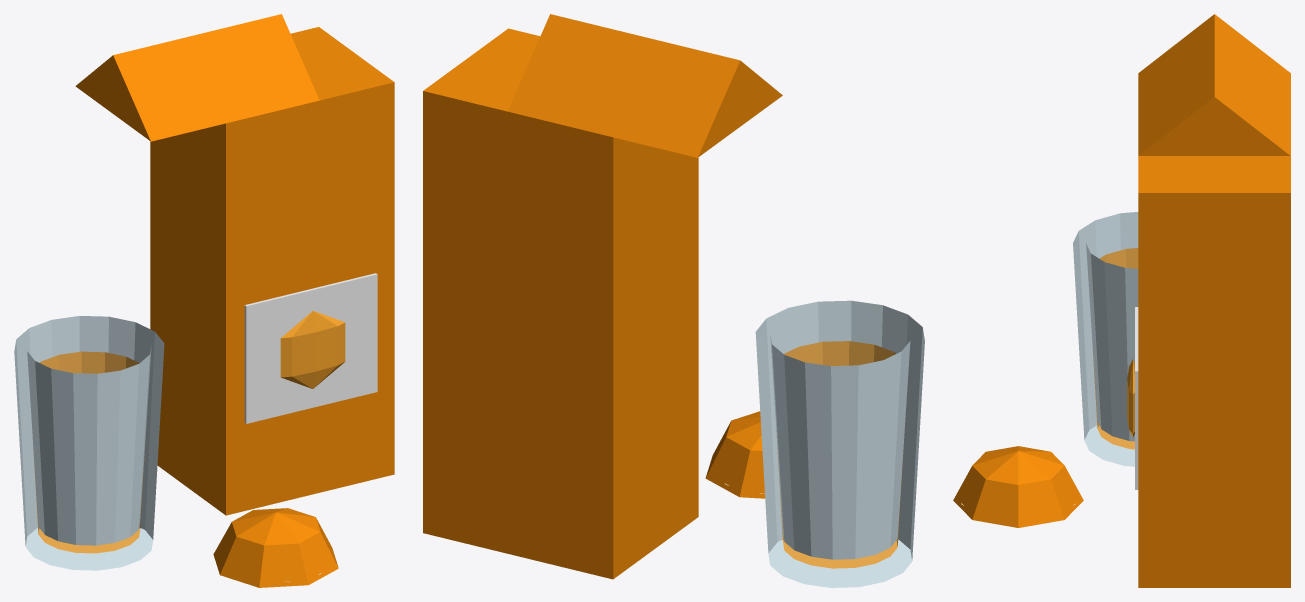
File: juice.glb
3 views of the same model, side by side, from view 1: azimuth 30°, elevation 25°; view 2: azimuth 150°, elevation 25°; view 3: azimuth 270°, elevation 25° (orthographic). The views are drawn at different scales.
Visible parts, largest first — view 1: juice; view 2: juice; view 3: juice.
Part boxes in pixels (box(x1,y1,x2,y2)): juice: box(14, 14, 394, 587); juice: box(423, 14, 924, 587); juice: box(953, 14, 1290, 587).
Size of the model in its own units: 0.39 by 0.46 by 0.31.
